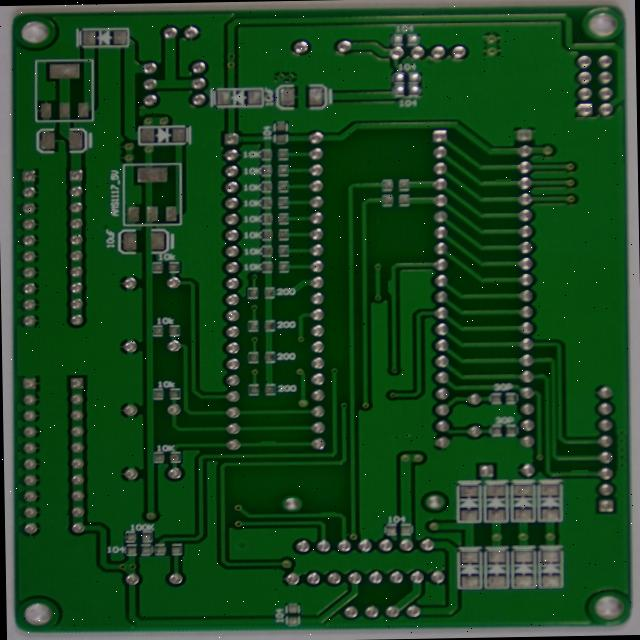spur: (371, 283, 389, 305), (483, 179, 508, 191), (564, 477, 589, 489), (303, 521, 325, 533), (239, 449, 265, 459)
